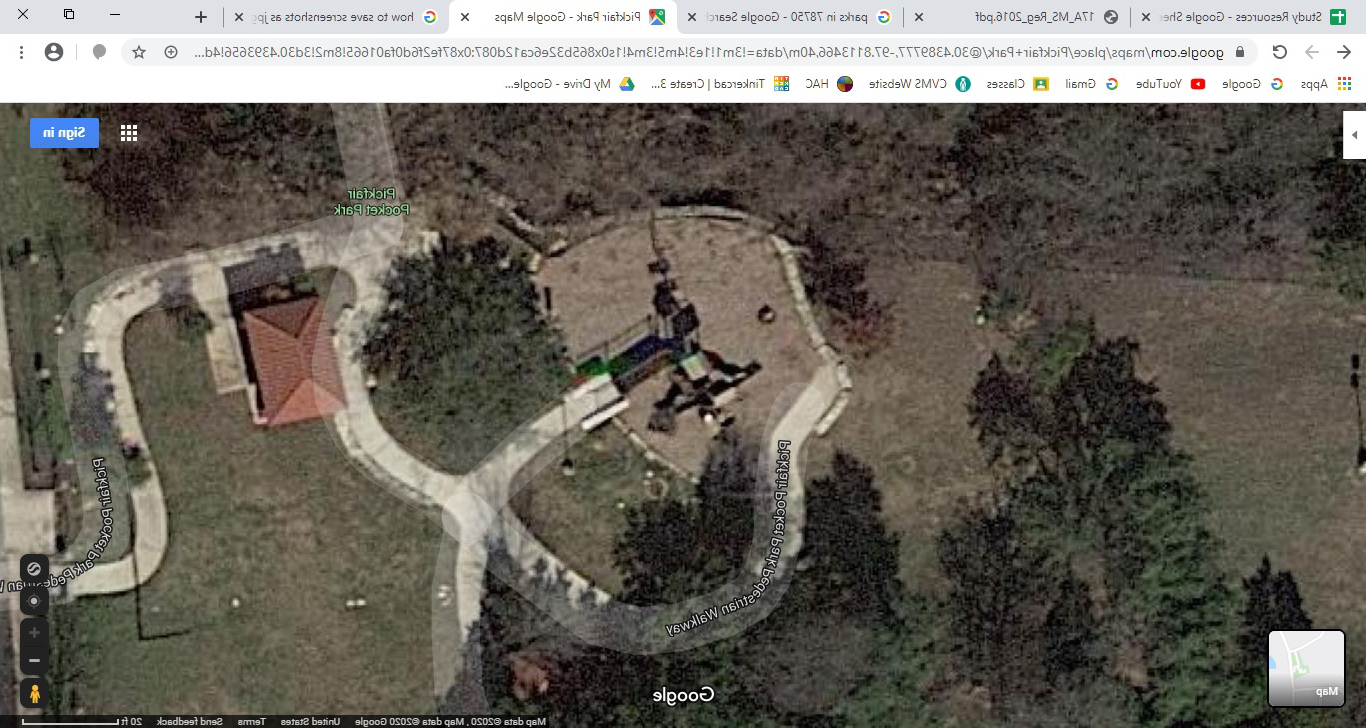playscape: (556, 258, 825, 498)
